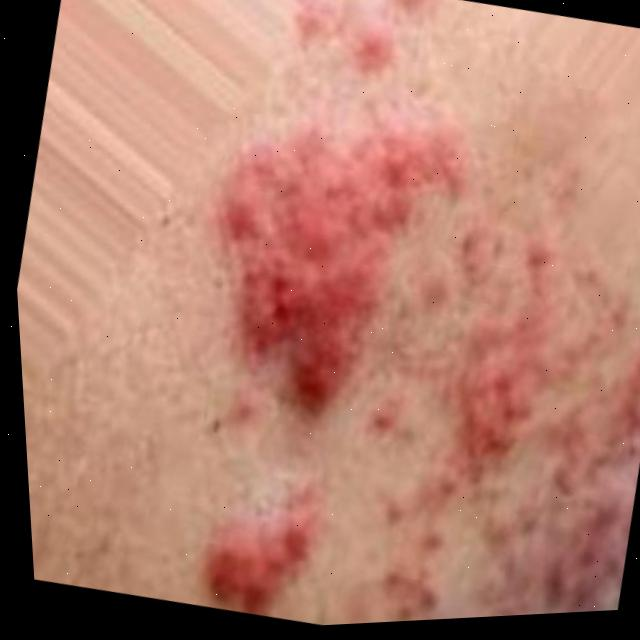Shingles: (120, 82, 640, 634)
